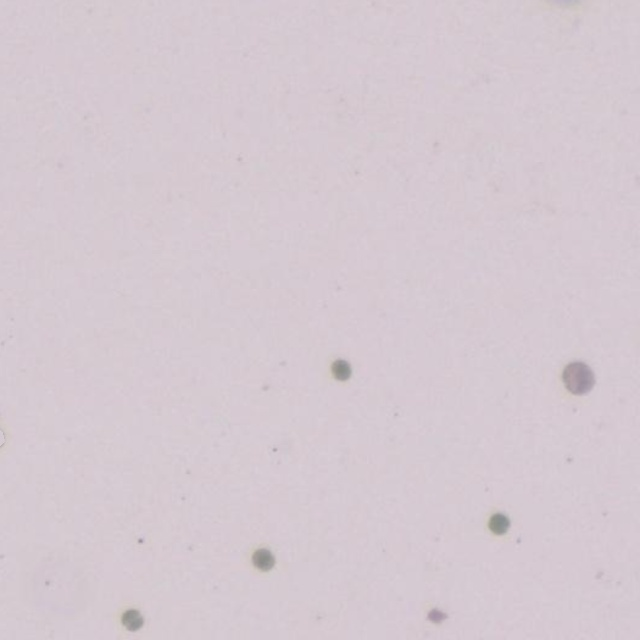non_viable: (562, 361, 594, 394), (488, 512, 510, 535), (251, 549, 274, 571), (121, 608, 143, 630), (330, 358, 351, 380)
